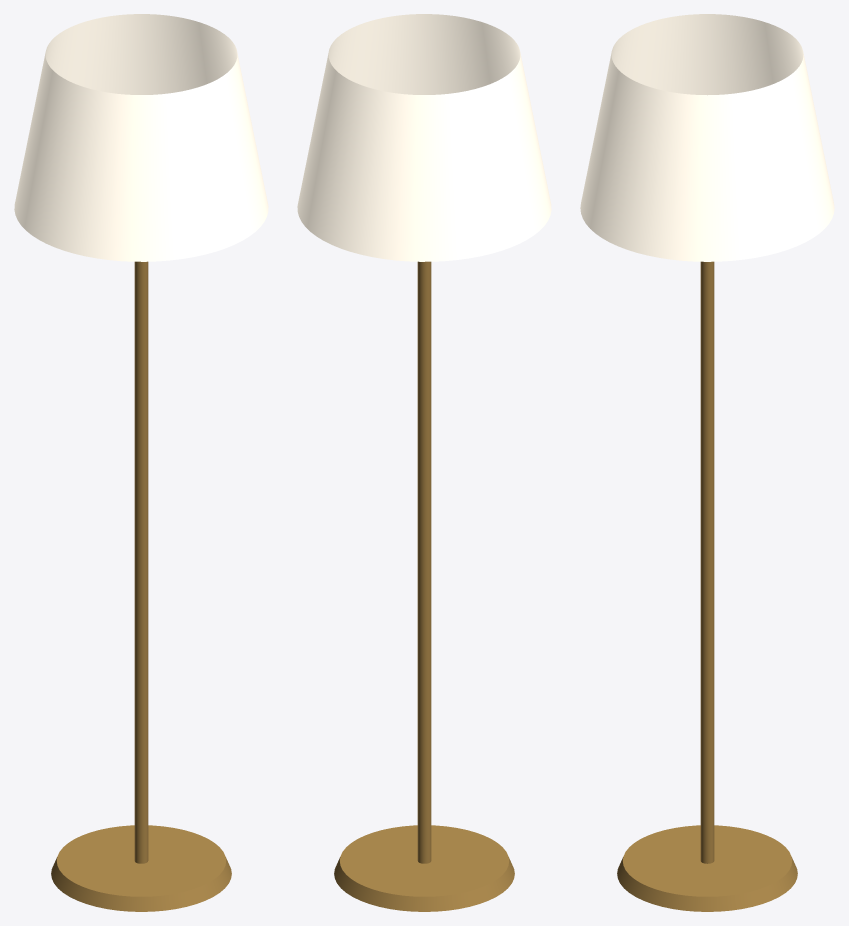
Rendered from lamp.glb.
The picture shows the model from 3 angles, left to right: view 1: azimuth 30°, elevation 25°; view 2: azimuth 150°, elevation 25°; view 3: azimuth 270°, elevation 25°; orthographic projection.
Size of the model in its own units: 0.45 by 1.6 by 0.45.
